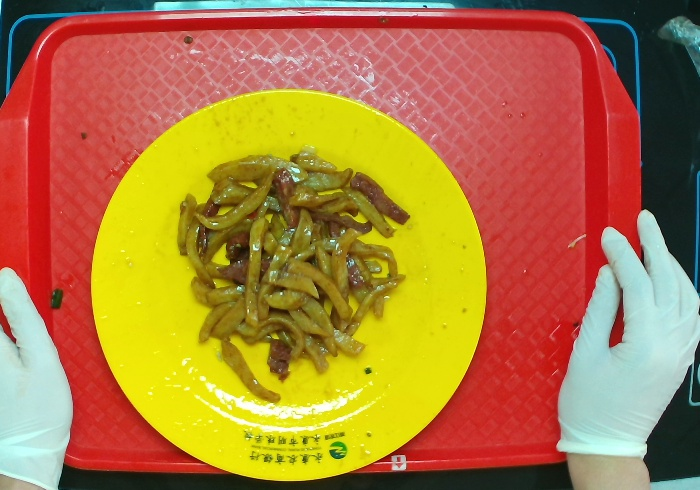YKMZ-Huang_Se_Mian_Pan: (78, 86, 505, 490)
